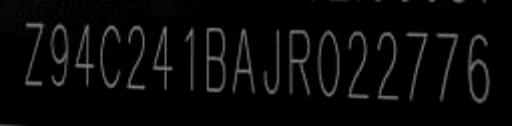letter: (373, 28, 403, 100), (230, 26, 260, 94), (285, 28, 315, 96), (401, 30, 429, 102), (433, 30, 461, 102), (465, 32, 493, 104), (315, 28, 343, 98), (202, 24, 228, 96), (345, 30, 371, 100), (148, 22, 174, 91), (22, 20, 48, 87), (124, 24, 150, 91), (98, 24, 124, 89), (261, 26, 285, 94), (48, 22, 72, 87), (72, 24, 96, 87), (182, 24, 198, 94)
